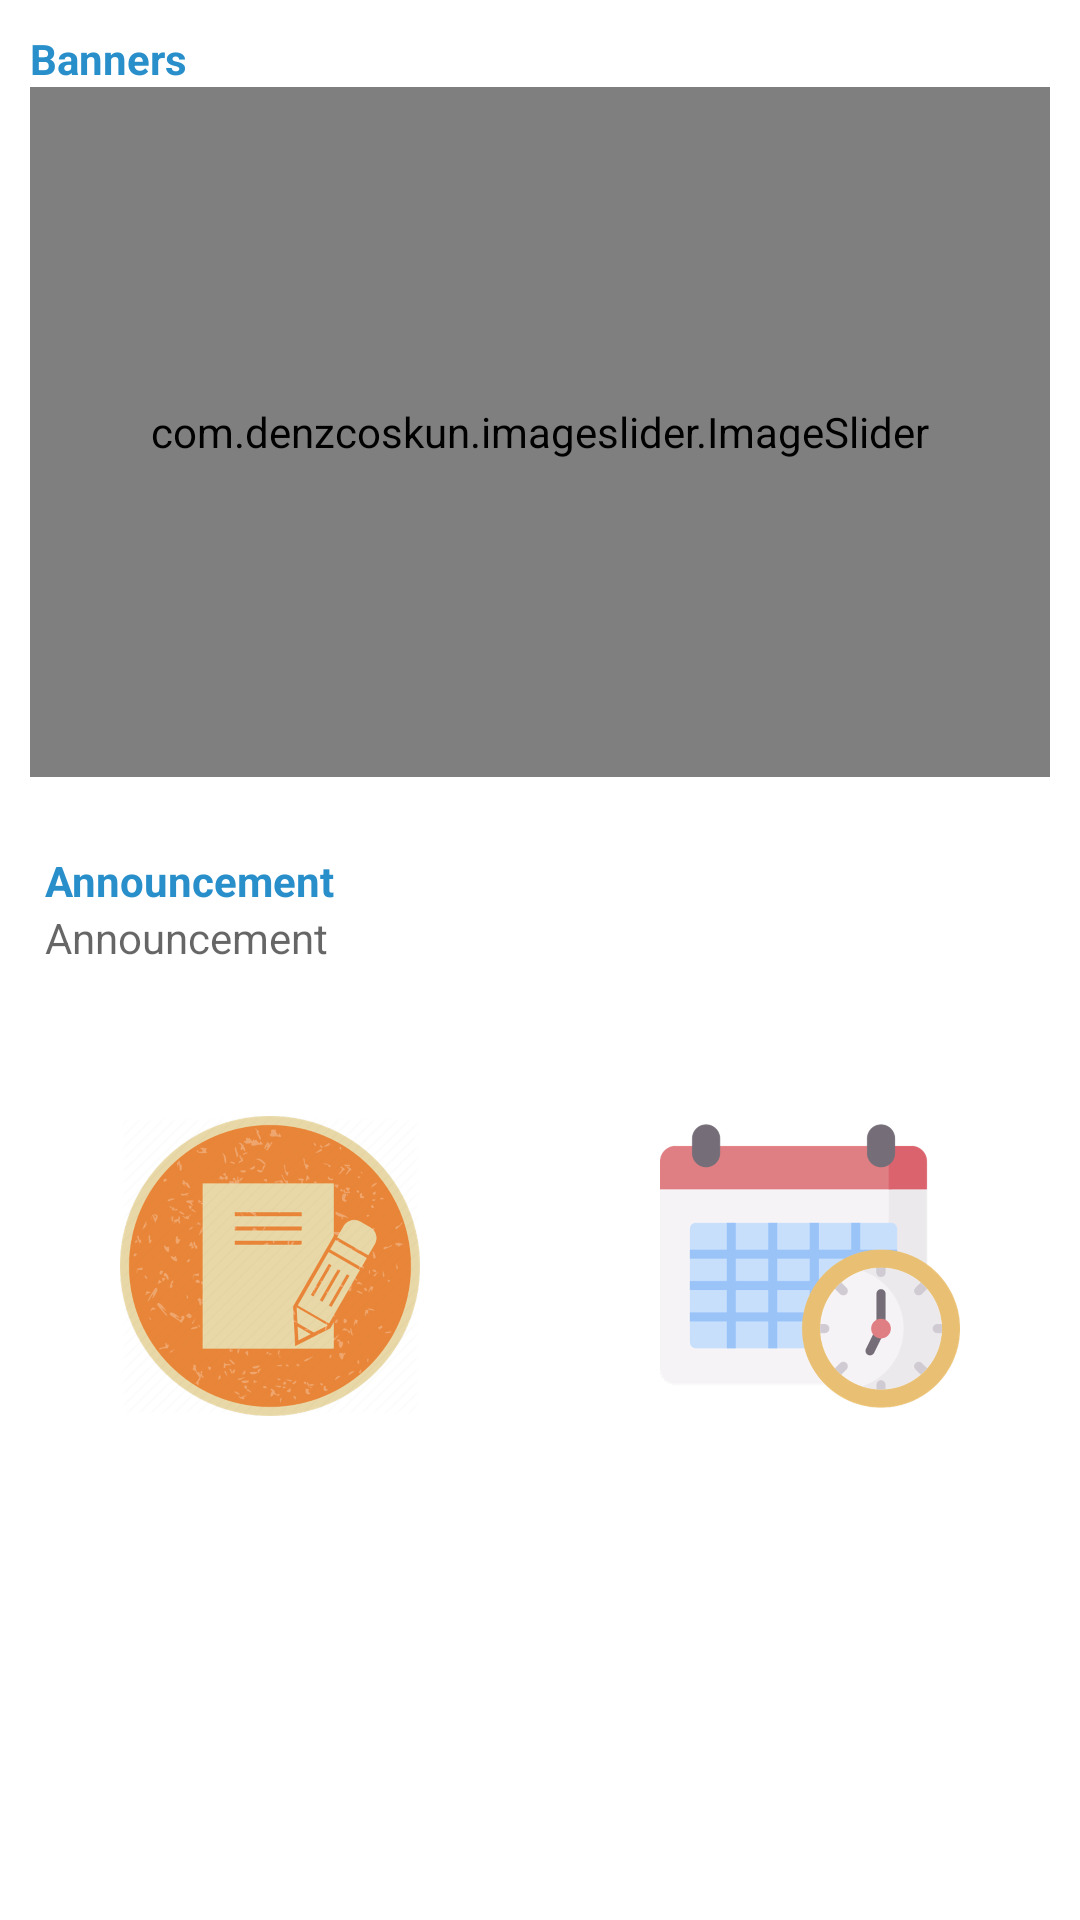

Icon click points for this 1080px x 1920px phone screenshot, format (x=x, y=y):
notes: (x=270, y=1266)
timetable: (x=810, y=1266)
